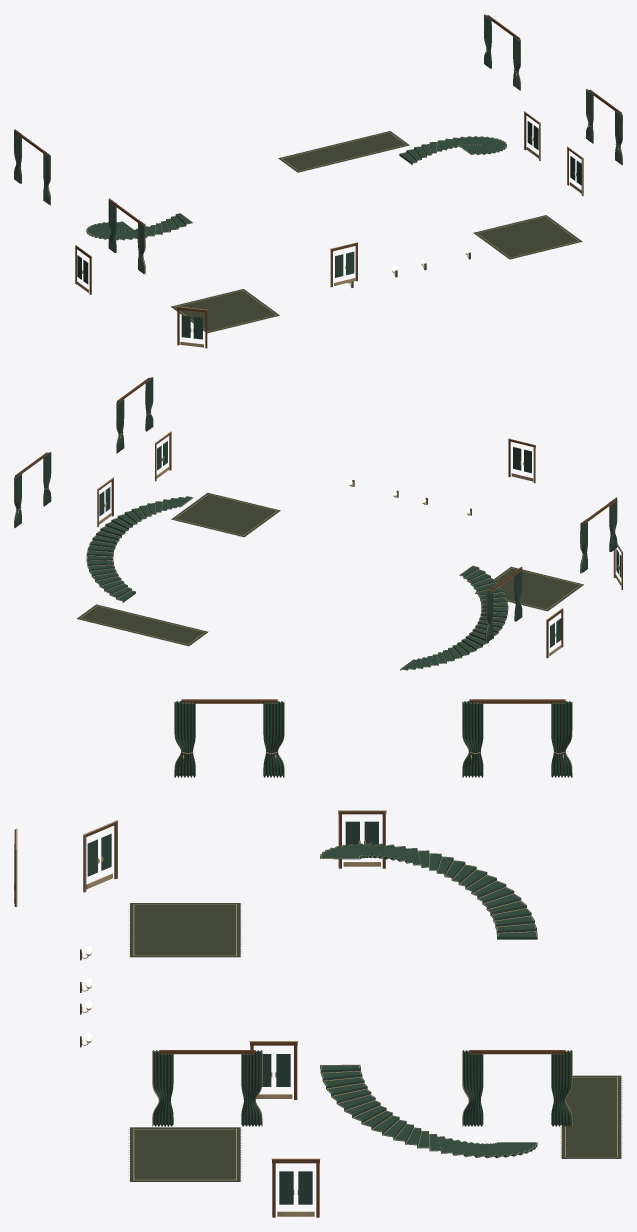
The model's file is hotel-grand-details.glb.
3 renders of one model, top to bottom at view 1: azimuth 30°, elevation 25°; view 2: azimuth 150°, elevation 25°; view 3: azimuth 270°, elevation 25°, orthographic. The views are drawn at different scales.
Parts seen in each view (by area): view 1: hotel-grand-details / Hotel woven moss rug, hotel-grand-details / Hotel forest velvet, hotel-grand-details / Hotel satin walnut, hotel-grand-details / Hotel forest enamel, hotel-grand-details / Hotel curtain warm lining, hotel-grand-details / Hotel satin champagne brass; view 2: hotel-grand-details / Hotel forest velvet, hotel-grand-details / Hotel woven moss rug, hotel-grand-details / Hotel satin champagne brass, hotel-grand-details / Hotel satin walnut, hotel-grand-details / Hotel curtain warm lining, hotel-grand-details / Hotel forest enamel; view 3: hotel-grand-details / Hotel forest velvet, hotel-grand-details / Hotel woven moss rug, hotel-grand-details / Hotel satin walnut, hotel-grand-details / Hotel forest enamel, hotel-grand-details / Hotel curtain warm lining, hotel-grand-details / Hotel satin champagne brass, hotel-grand-details / Hotel handled brass.
Boxes of the visible parts, x1,y1,x2,y2 form: hotel-grand-details / Hotel woven moss rug: [171, 131, 582, 333]; hotel-grand-details / Hotel forest velvet: [14, 14, 622, 273]; hotel-grand-details / Hotel satin walnut: [15, 15, 621, 348]; hotel-grand-details / Hotel forest enamel: [77, 121, 581, 339]; hotel-grand-details / Hotel curtain warm lining: [14, 14, 622, 331]; hotel-grand-details / Hotel satin champagne brass: [15, 21, 618, 310]; hotel-grand-details / Hotel forest velvet: [14, 377, 617, 670]; hotel-grand-details / Hotel woven moss rug: [77, 492, 583, 646]; hotel-grand-details / Hotel satin champagne brass: [18, 383, 622, 669]; hotel-grand-details / Hotel satin walnut: [15, 377, 622, 658]; hotel-grand-details / Hotel curtain warm lining: [14, 403, 617, 669]; hotel-grand-details / Hotel forest enamel: [99, 441, 621, 647]; hotel-grand-details / Hotel forest velvet: [153, 701, 571, 1158]; hotel-grand-details / Hotel woven moss rug: [130, 903, 621, 1181]; hotel-grand-details / Hotel satin walnut: [14, 699, 565, 1217]; hotel-grand-details / Hotel forest enamel: [14, 821, 378, 1204]; hotel-grand-details / Hotel curtain warm lining: [128, 701, 622, 1180]; hotel-grand-details / Hotel satin champagne brass: [16, 703, 564, 1159]; hotel-grand-details / Hotel handled brass: [14, 840, 380, 1216].
Size of the model in its own units: 37.59 by 8.35 by 27.51.
Materials: 9 (3 with a texture image).
